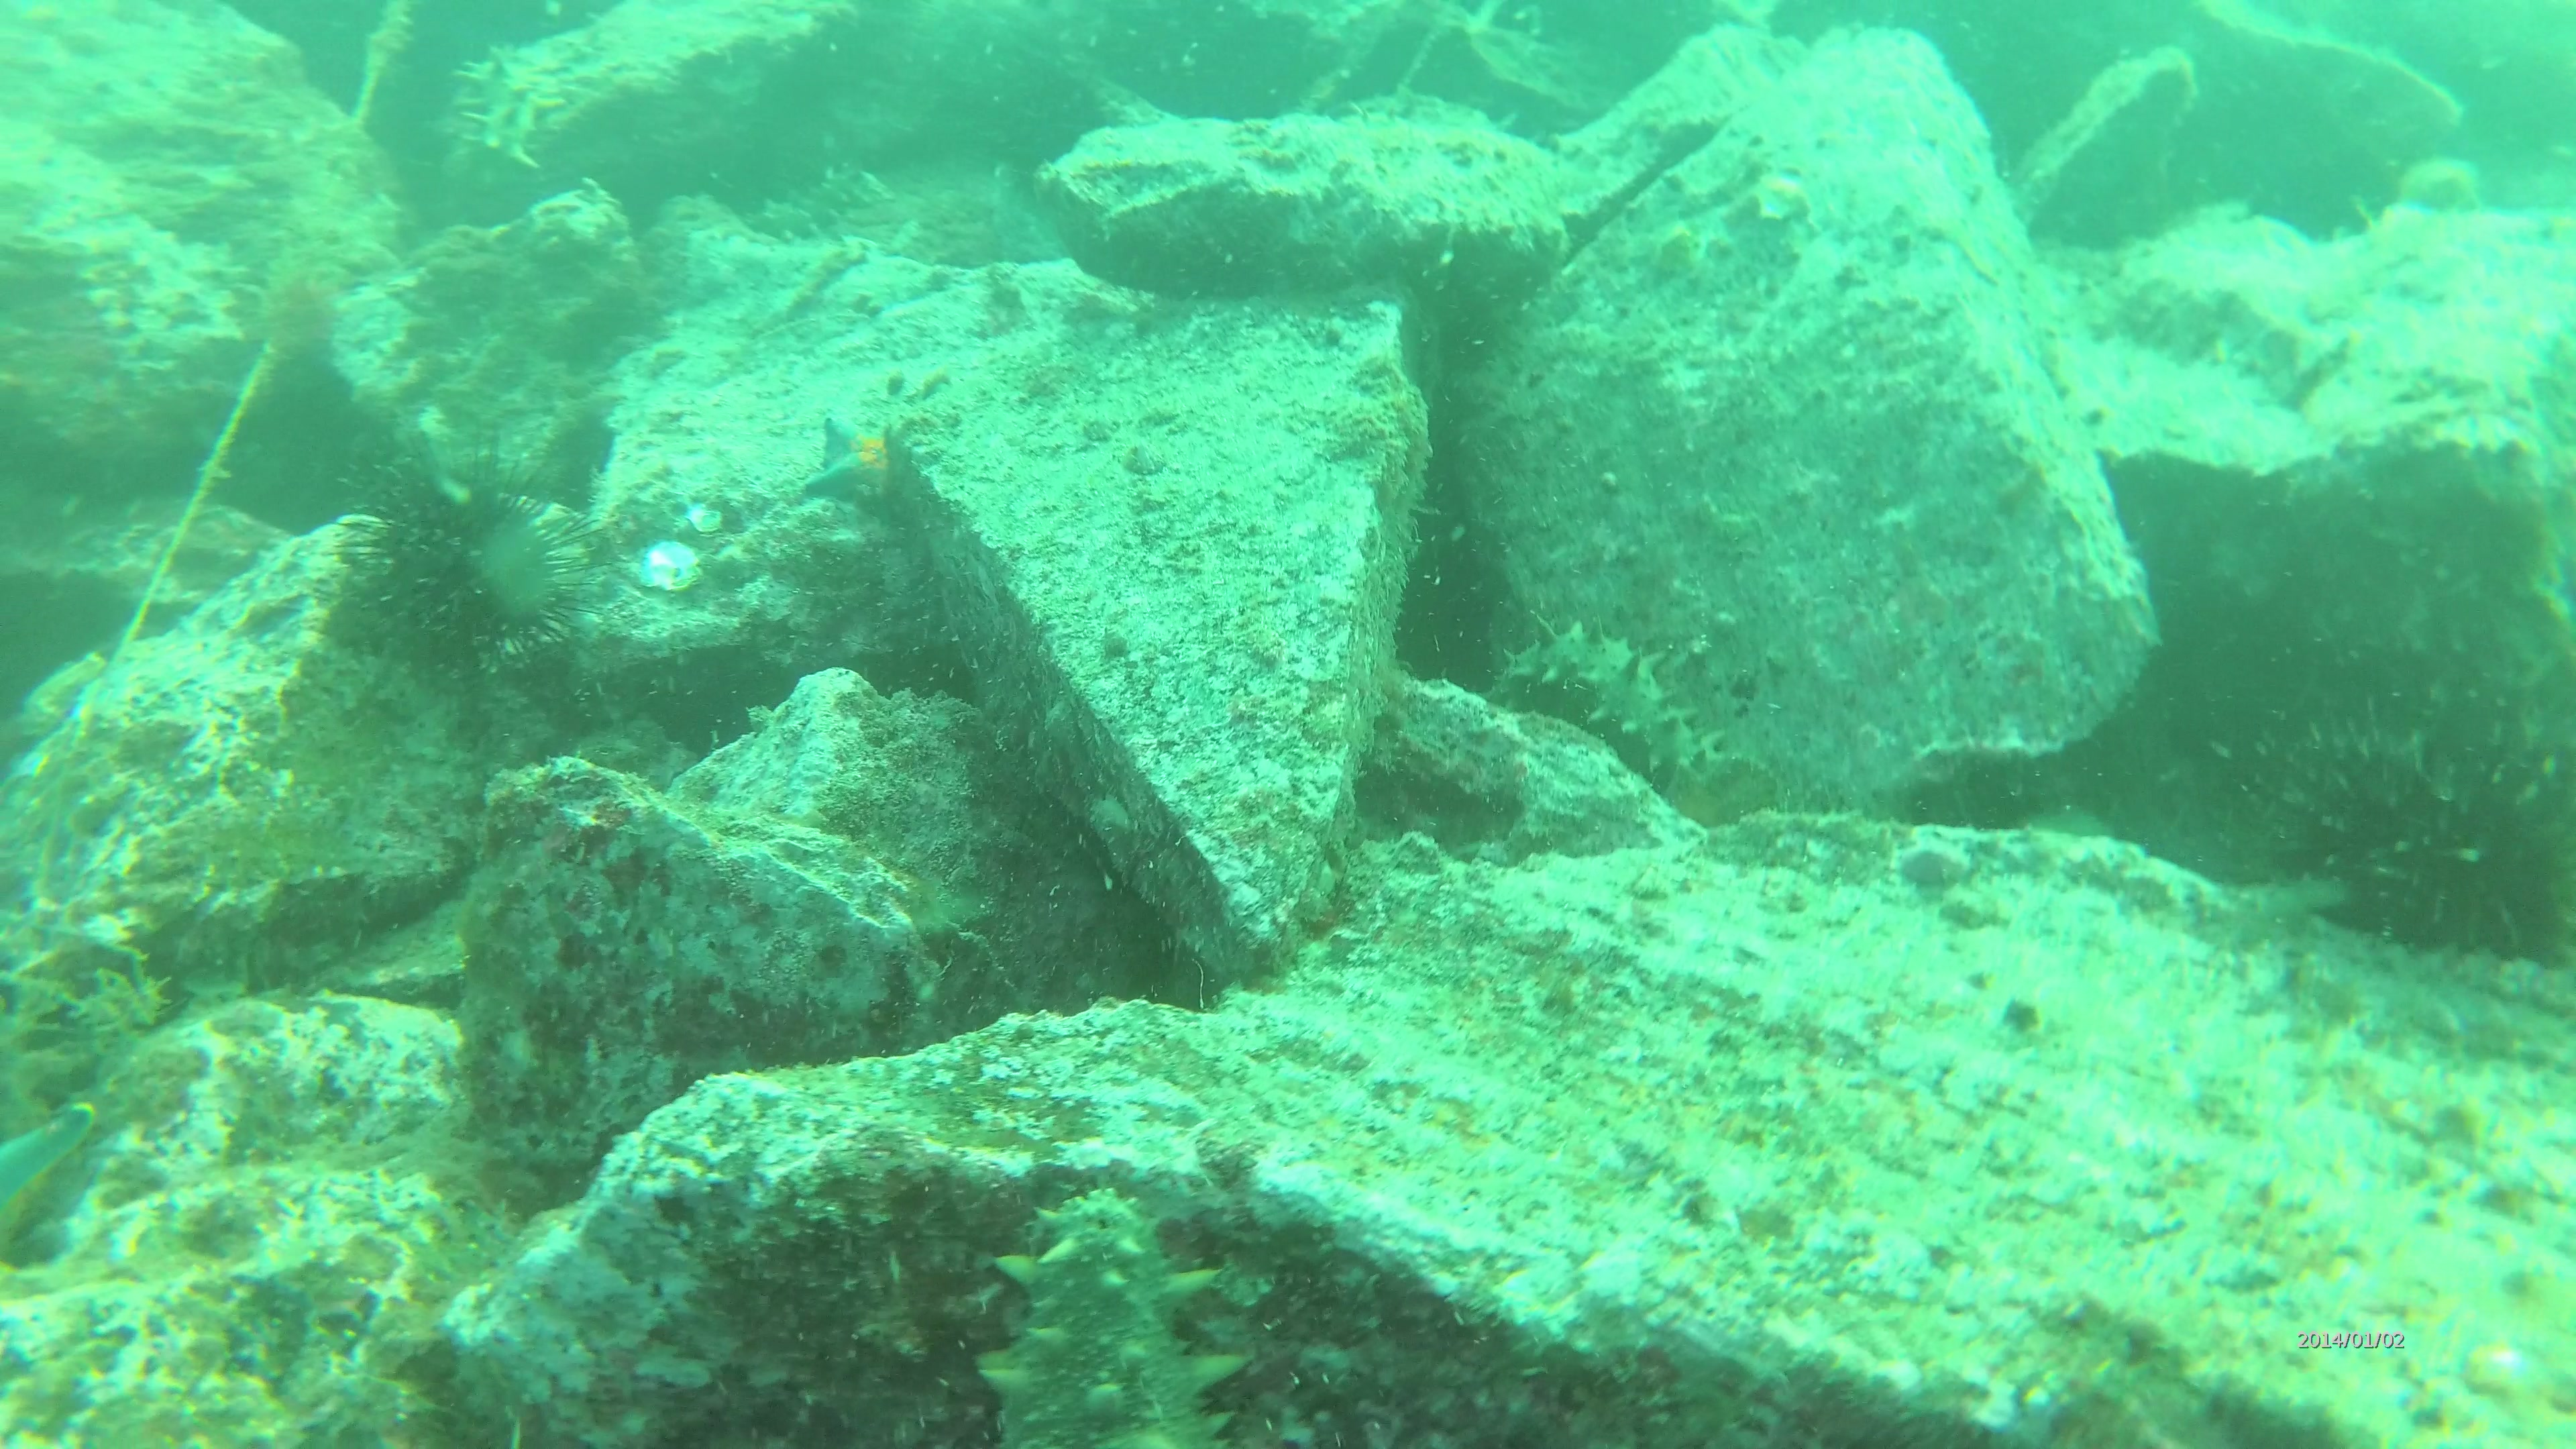echinus: (2307, 741, 2565, 975), (326, 448, 534, 660)
holothurian: (970, 1185, 1265, 1449), (1491, 607, 1723, 800), (448, 37, 557, 161), (754, 149, 879, 241)
starfish: (798, 402, 897, 522)
